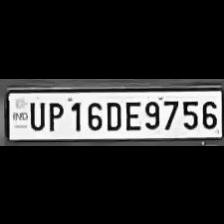1: (66, 98, 82, 130)
5: (179, 96, 199, 130)
6: (198, 97, 218, 128), (84, 98, 103, 130)
7: (160, 97, 178, 128)
9: (141, 97, 161, 128)
D: (102, 98, 122, 130)
E: (123, 97, 141, 129)
P: (44, 98, 64, 130)
U: (24, 98, 44, 130)
